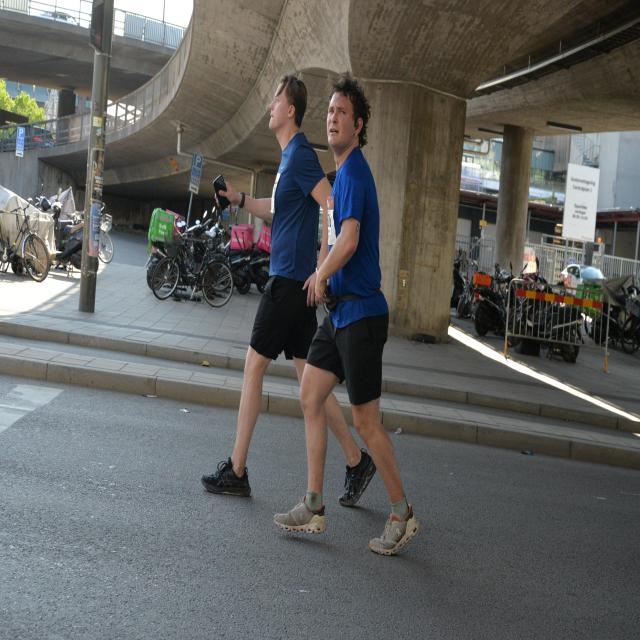runner-detect: (200, 64, 346, 526), (308, 83, 424, 565)
